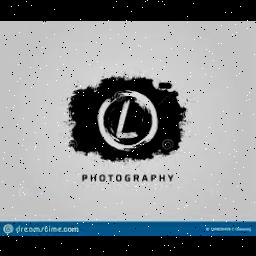a: (141, 172, 149, 182)
g: (124, 171, 132, 183)
h: (90, 172, 98, 182), (160, 172, 166, 184)
l: (116, 98, 142, 142)
o: (98, 172, 106, 182), (116, 174, 122, 182)
p: (150, 171, 158, 183), (82, 170, 88, 184)
r: (134, 172, 140, 184)
t: (108, 171, 114, 183)
y: (166, 173, 174, 183)
